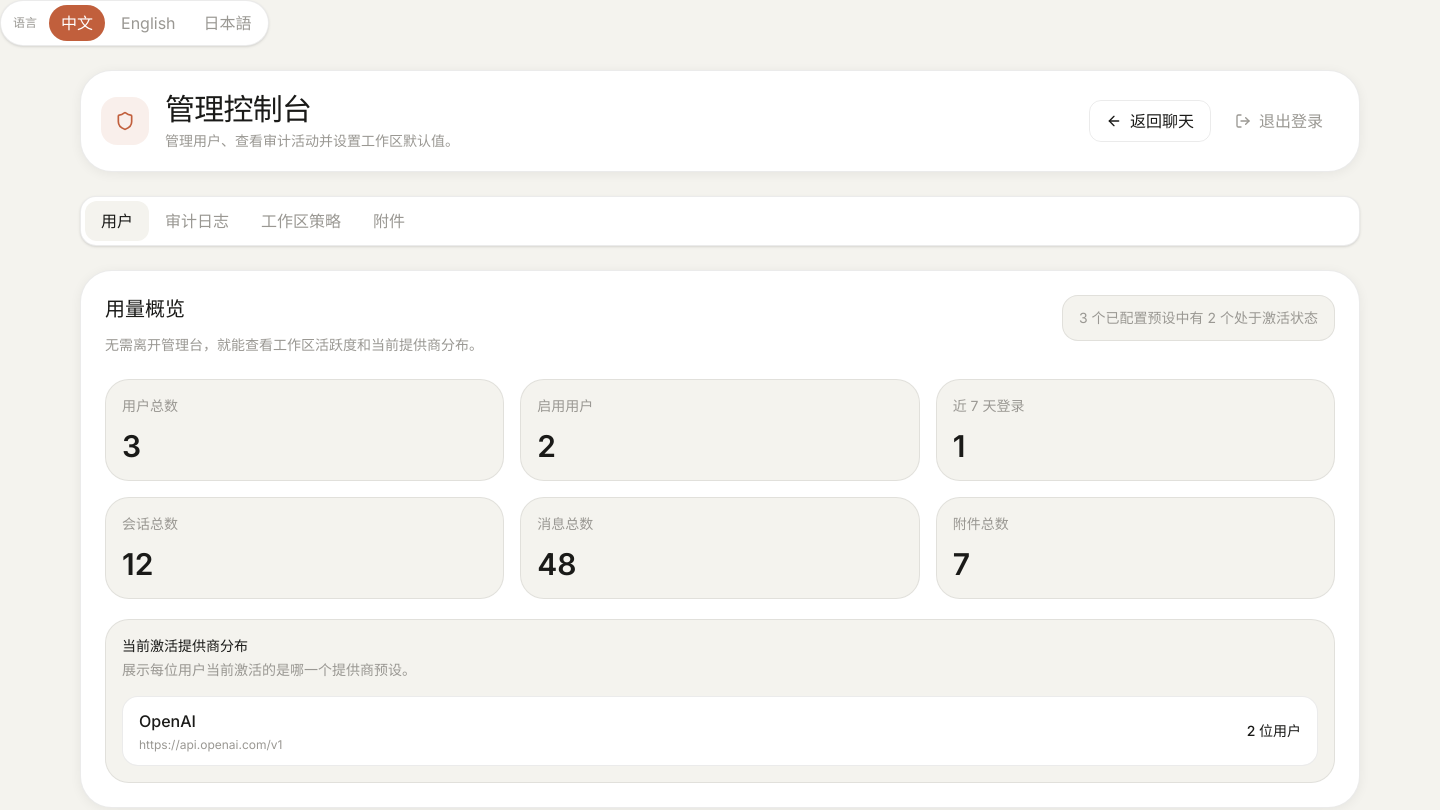
it: AdminPage › renders localized admin content and updates immediately when the locale changes
Check: the heading "管理控制台" is shown, box [165,90,311,128]
Check: the text "管理用户、查看审计活动并设置工作区默认值。" is shown, box [165,131,459,151]
Click the button "审计日志".
click(197, 221)  # box [149,201,245,241]
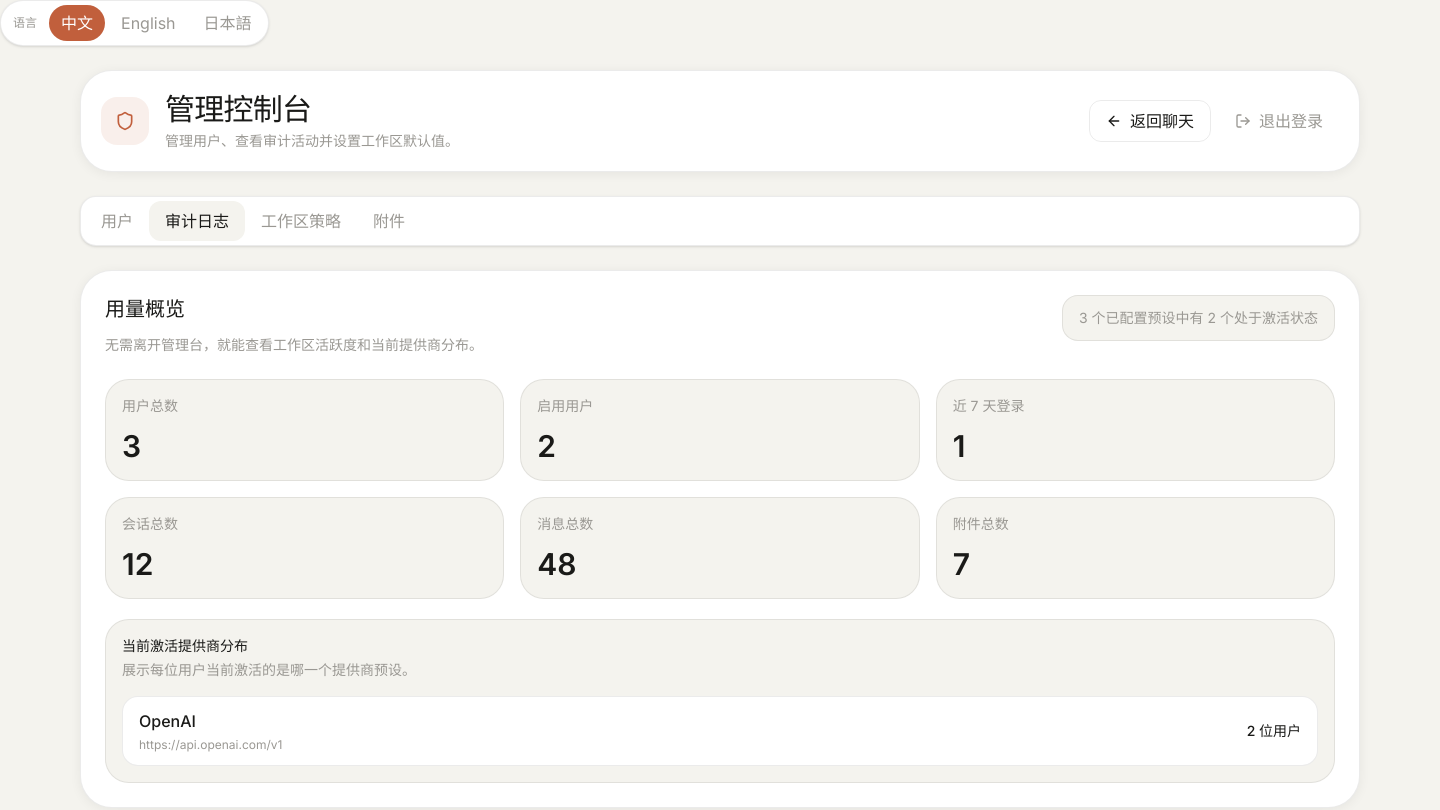
Click the button "English".
click(148, 23)  # box [109,5,188,41]
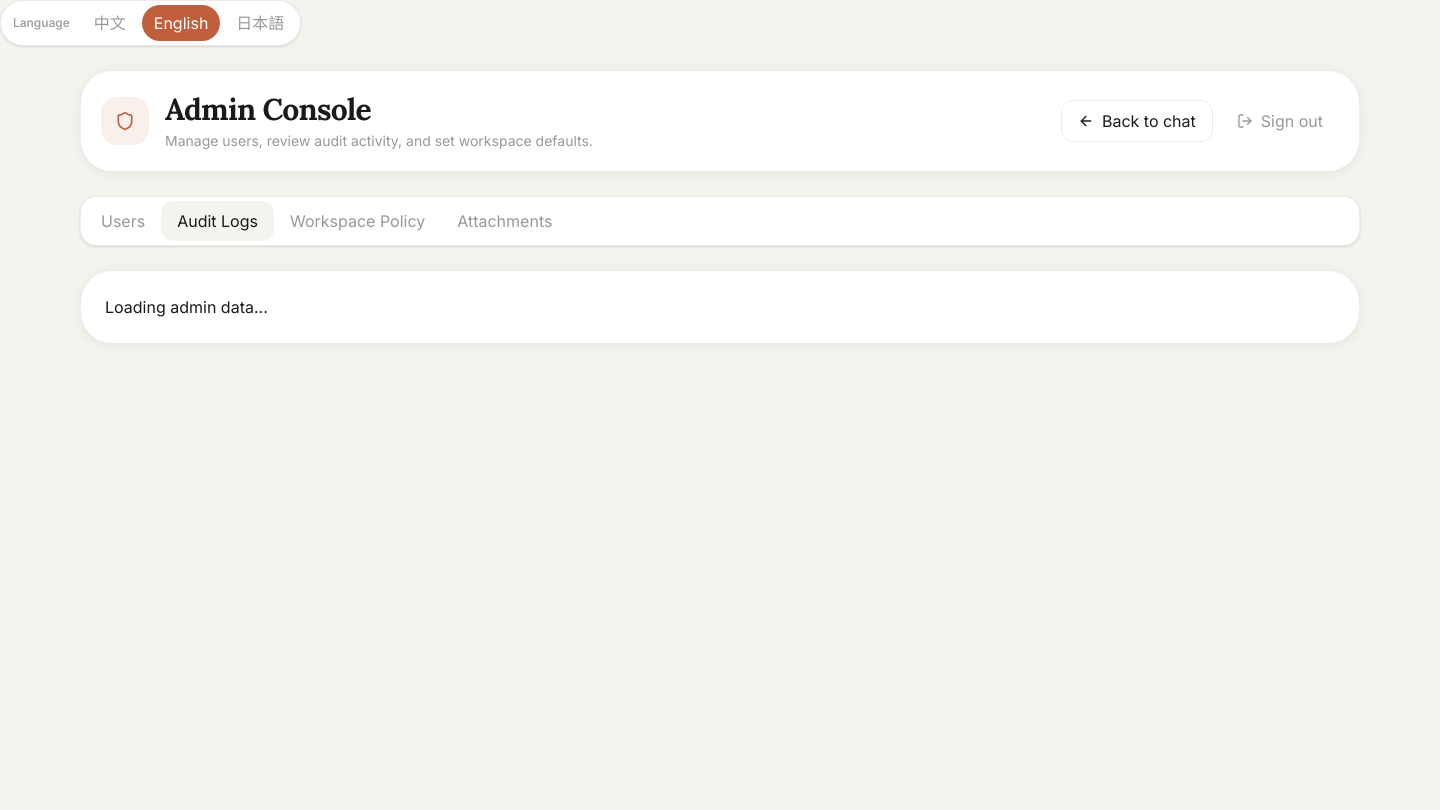
Check: the heading "Admin Console" is shown, box [165,90,371,128]
Check: the text "Manage users, review audit activity, and set workspace defaults." is shown, box [165,131,593,151]
Click the button "Users".
click(123, 221)  # box [85,201,161,241]
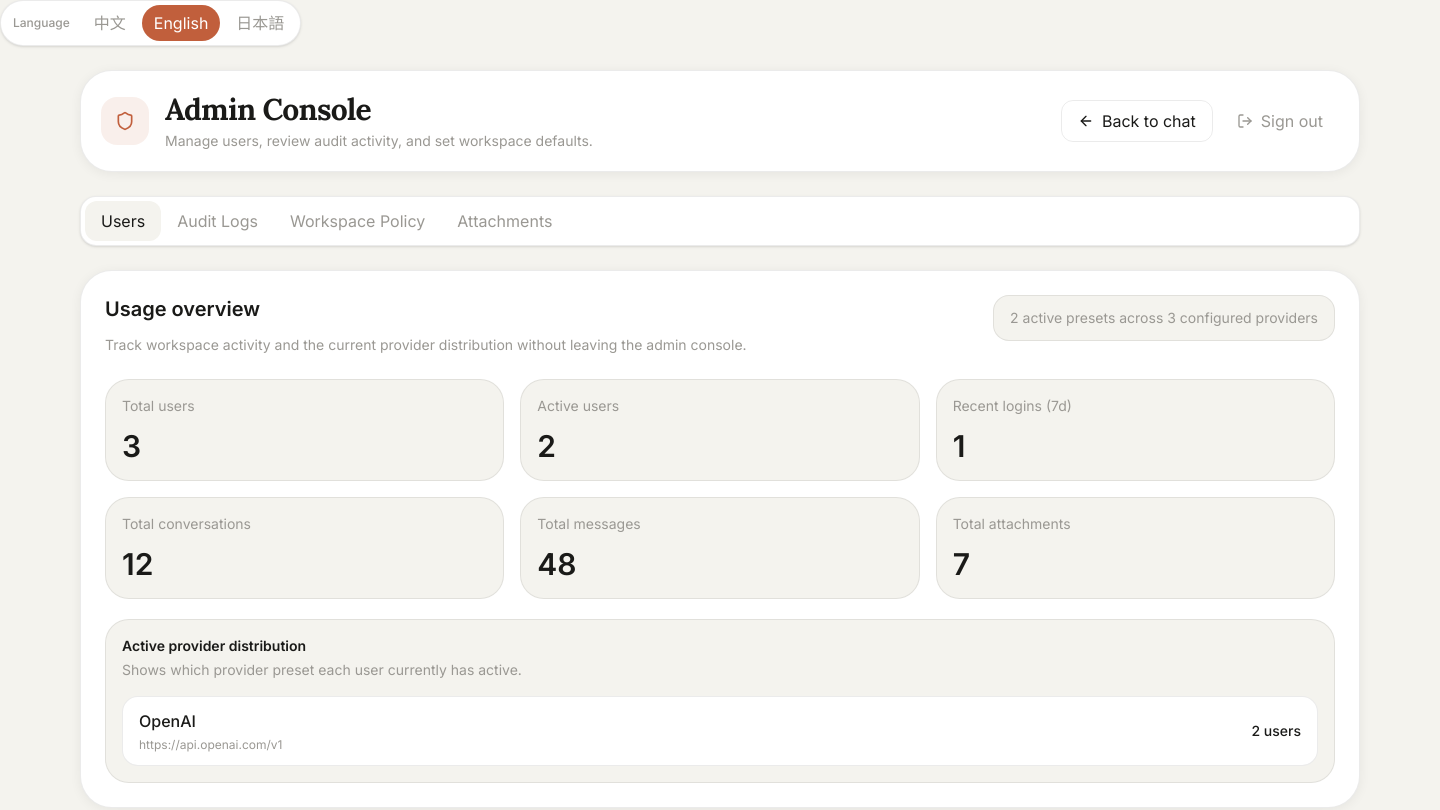
Click the button "Audit Logs".
click(218, 221)  # box [161,201,274,241]
(page scrolled)
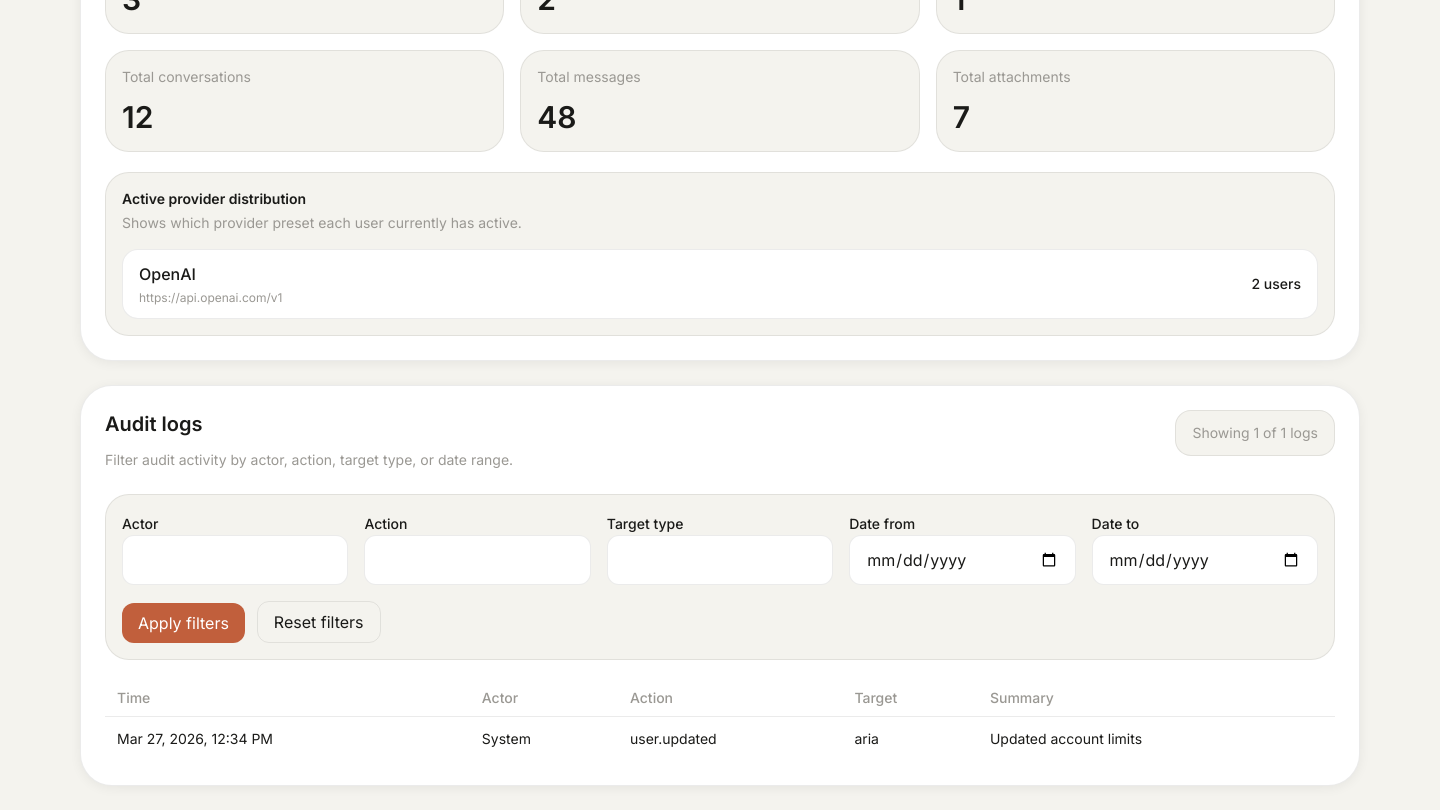
Check: the text "System" is shown, box [470,716,618,761]
